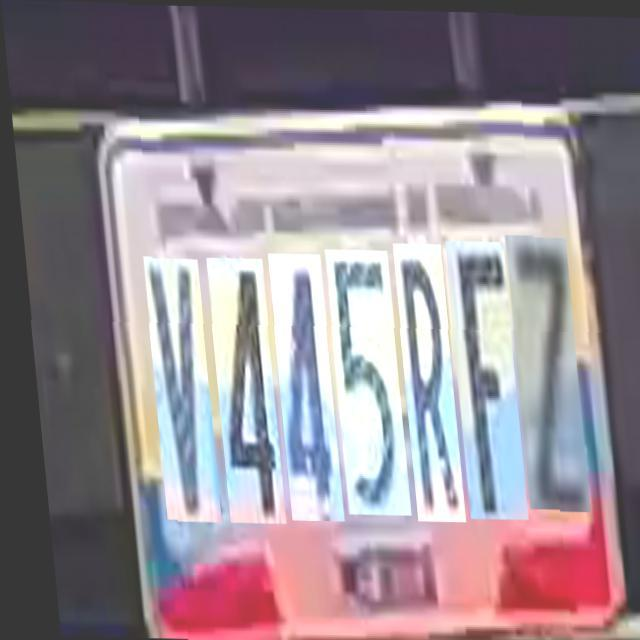4: (200, 256, 276, 522), (263, 252, 335, 520)
5: (320, 248, 402, 514)
F: (440, 239, 520, 518)
R: (388, 242, 457, 520)
V: (138, 258, 212, 522)
Z: (501, 233, 582, 508)
